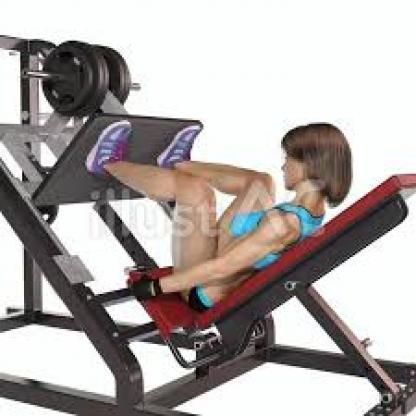leg press: (0, 19, 416, 416)
